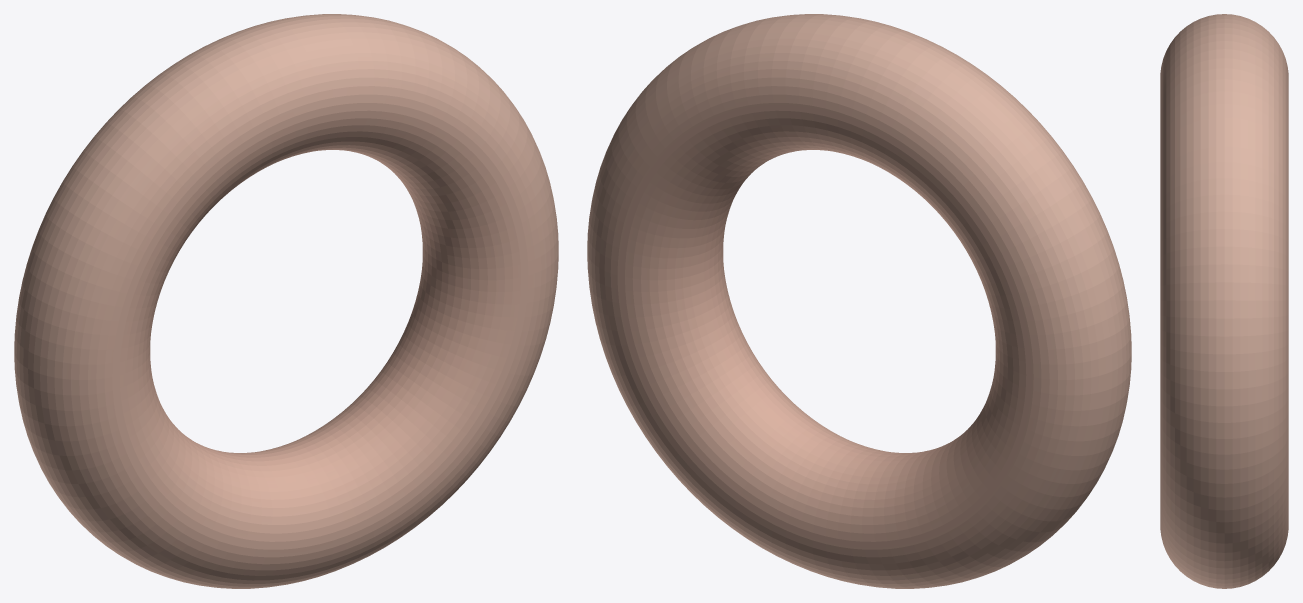
The picture shows the model from 3 angles, left to right: view 1: azimuth 30°, elevation 25°; view 2: azimuth 150°, elevation 25°; view 3: azimuth 270°, elevation 25°; orthographic projection. The views are drawn at different scales.
Parts seen in each view (by area): view 1: world; view 2: world; view 3: world.
Boxes of the visible parts, <box> form: world: <box>14,14,558,588</box>; world: <box>587,14,1131,588</box>; world: <box>1160,14,1288,588</box>.
Size of the model in its own units: 29.2 by 29.2 by 6.52.
